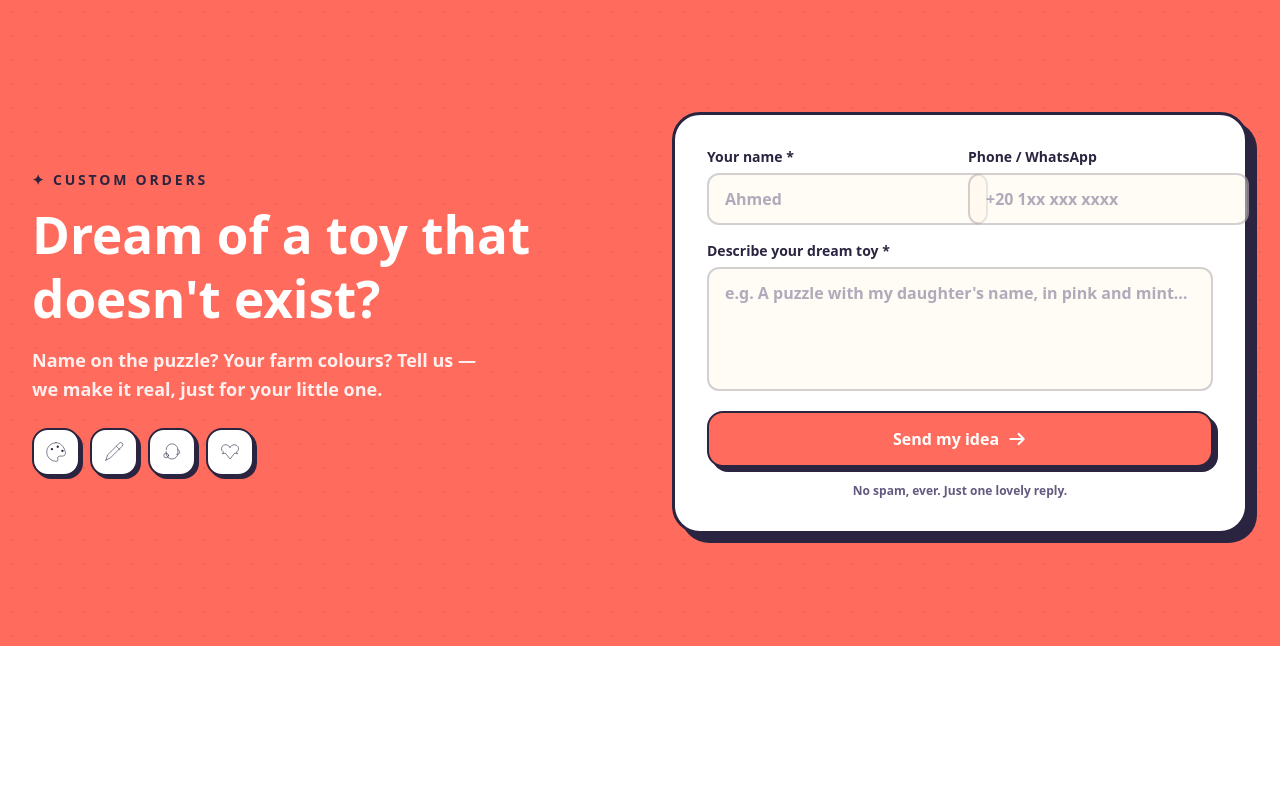
Test case: <CustomCta /> › submits a valid order to WhatsApp (sanitized text)
This screenshot has width=1280, height=800.
Type "Nour" into the field with placeholder "Ahmed" at point(848, 199), box [707, 173, 988, 225]
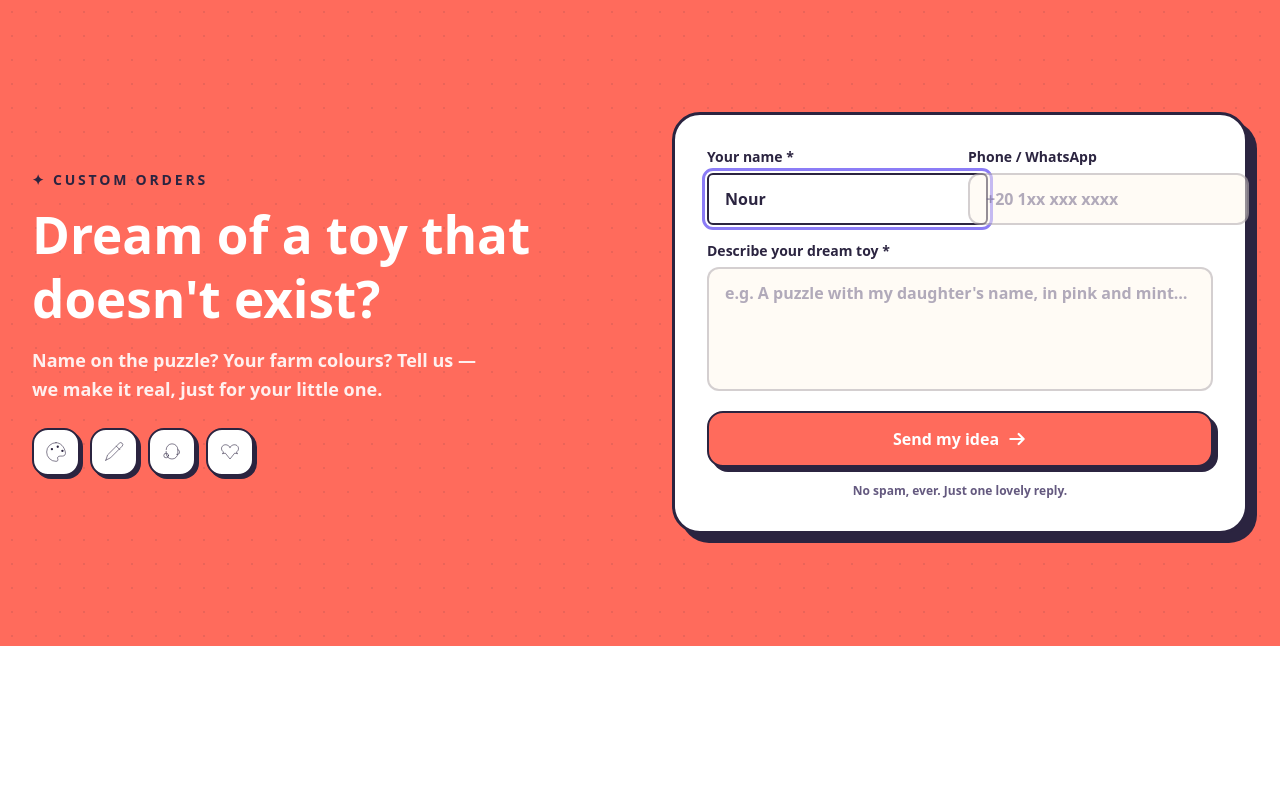
Type "+201001234567" into the field with placeholder "+20 1xx xxx xxxx" at point(1108, 199), box [968, 173, 1249, 225]
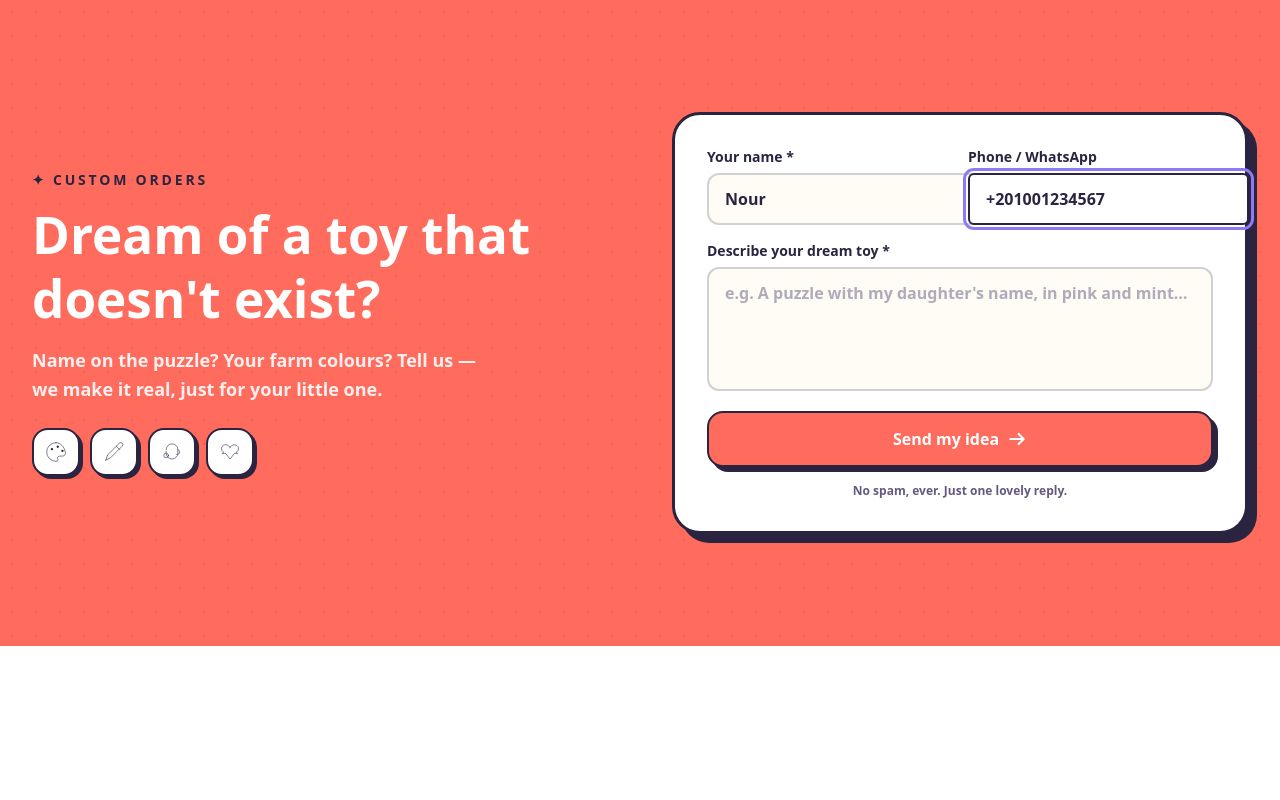
Type "A dinosaur busy board in green, please!" into the text box with placeholder "e.g. A puzzle with my daughter's name, in pink and mint…" at point(960, 329), box [707, 267, 1213, 391]
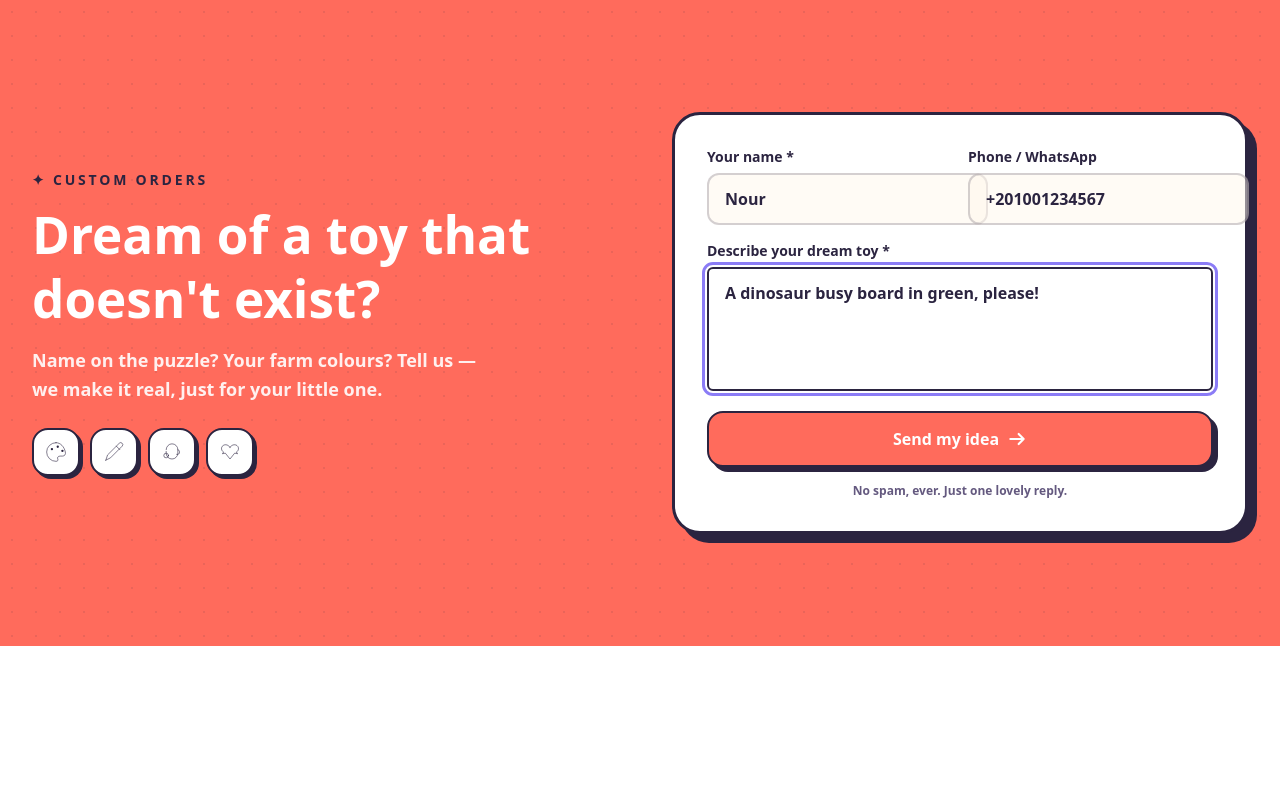
Click the button "Send my idea" at point(960, 439), box [707, 411, 1213, 467]
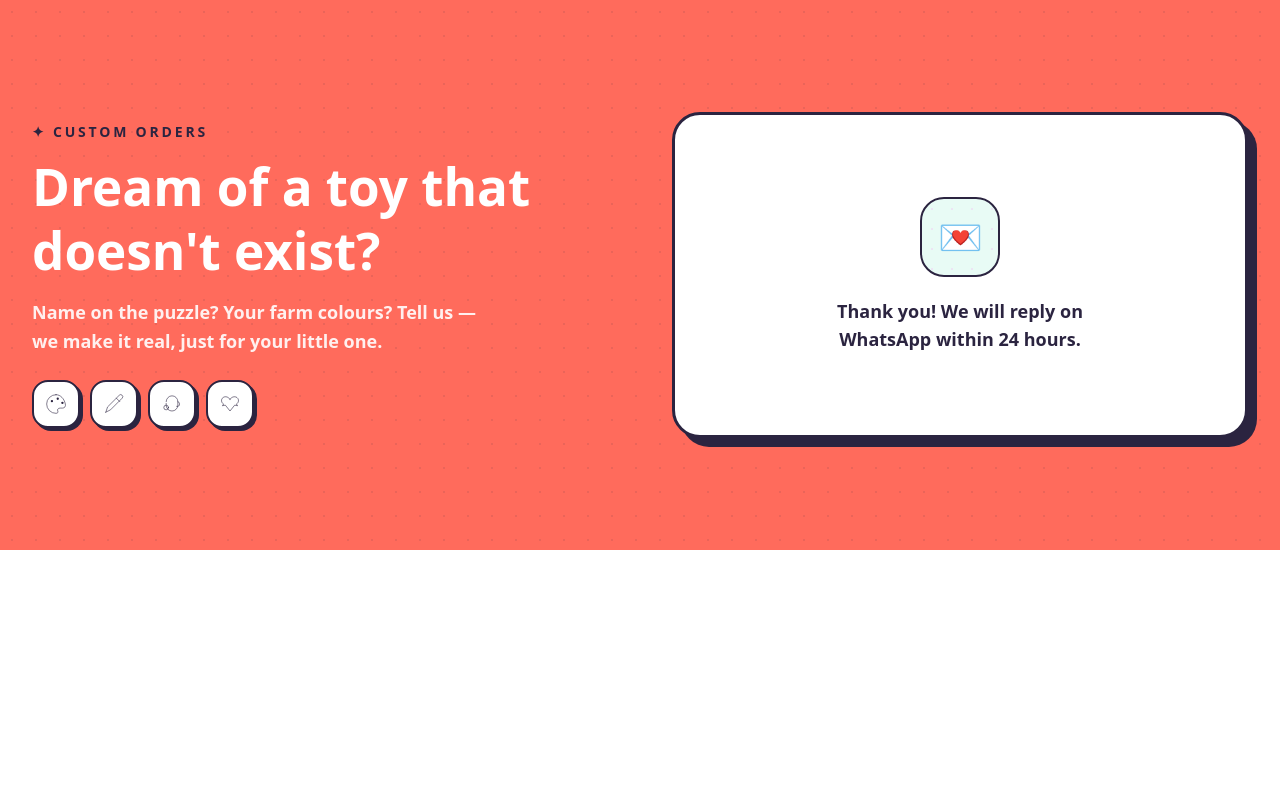
Check: the text "Thank you! We will reply on WhatsApp within 24 hours." is shown, box [837, 299, 1083, 351]
